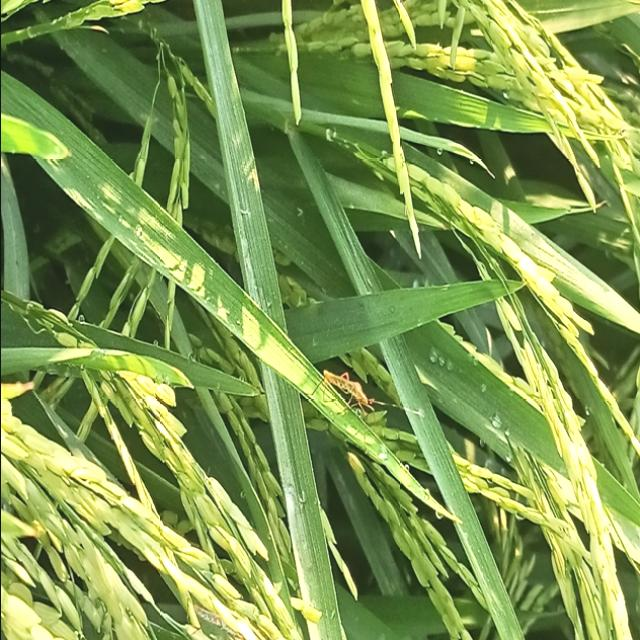green leaf hopper: (294, 354, 424, 464)
